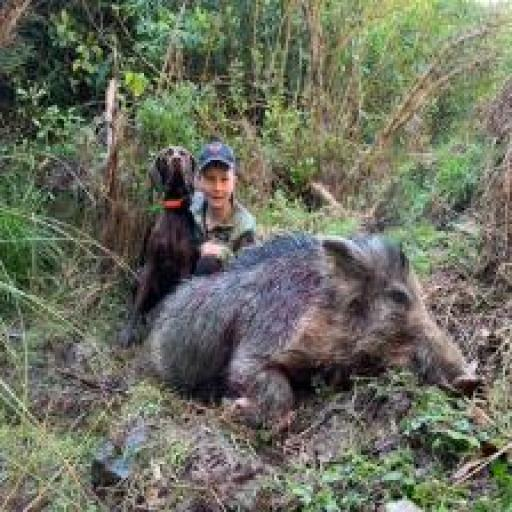Pig: (142, 226, 480, 421)
